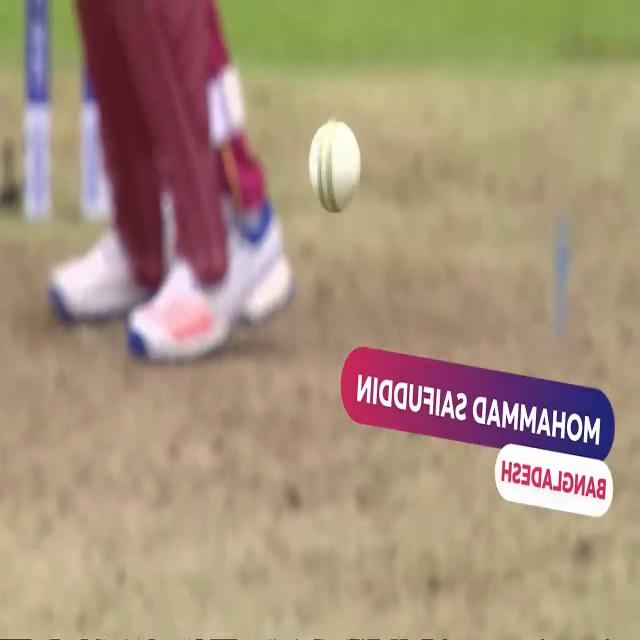ball: (307, 113, 363, 219)
